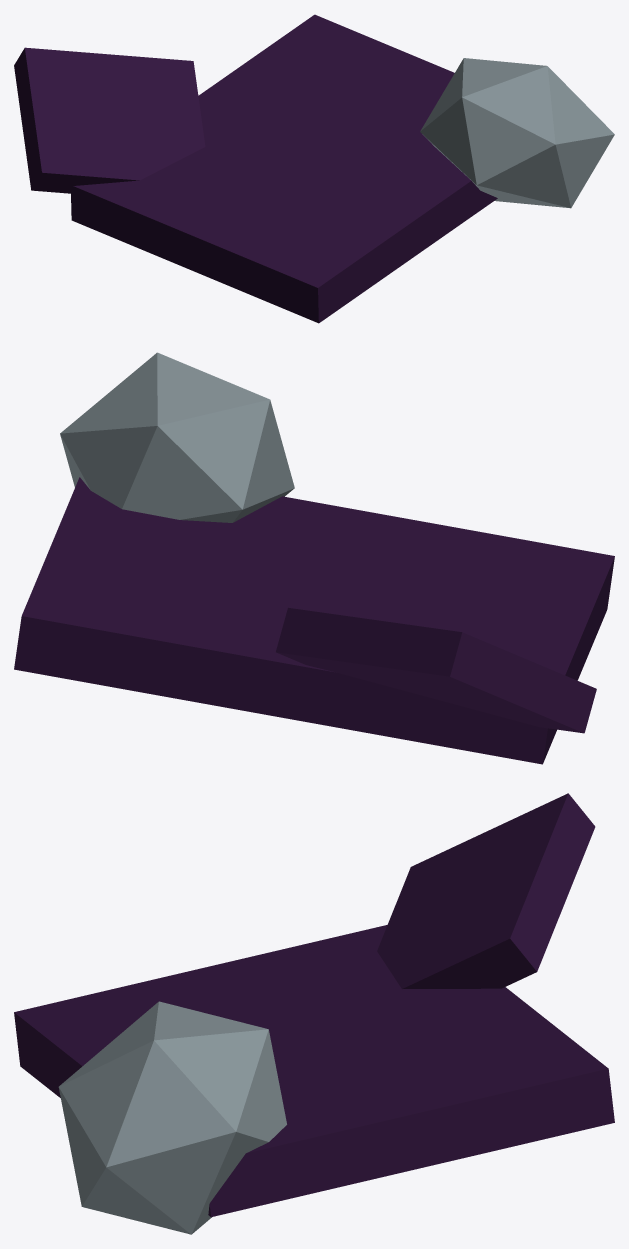
File: enemy_peatling_fragment_husk.glb
The picture shows the model from 3 angles, top to bottom: view 1: azimuth 30°, elevation 25°; view 2: azimuth 150°, elevation 25°; view 3: azimuth 270°, elevation 25°; orthographic projection. The views are drawn at different scales.
Visible parts, largest first — view 1: Fragment_Husk_Film, Fragment_Husk_Curl, Fragment_Husk_Pebble; view 2: Fragment_Husk_Film, Fragment_Husk_Pebble, Fragment_Husk_Curl; view 3: Fragment_Husk_Film, Fragment_Husk_Pebble, Fragment_Husk_Curl.
Part boxes in pixels (box(x1,y1,x2,y2)): Fragment_Husk_Film: box(70, 14, 497, 323); Fragment_Husk_Curl: box(14, 47, 205, 193); Fragment_Husk_Pebble: box(420, 58, 614, 208); Fragment_Husk_Film: box(14, 477, 614, 764); Fragment_Husk_Pebble: box(60, 352, 294, 522); Fragment_Husk_Curl: box(276, 607, 596, 733); Fragment_Husk_Film: box(14, 925, 614, 1217); Fragment_Husk_Pebble: box(58, 1001, 286, 1234); Fragment_Husk_Curl: box(377, 793, 595, 988).
Size of the model in its own units: 0.2531 by 0.0806 by 0.2072.
